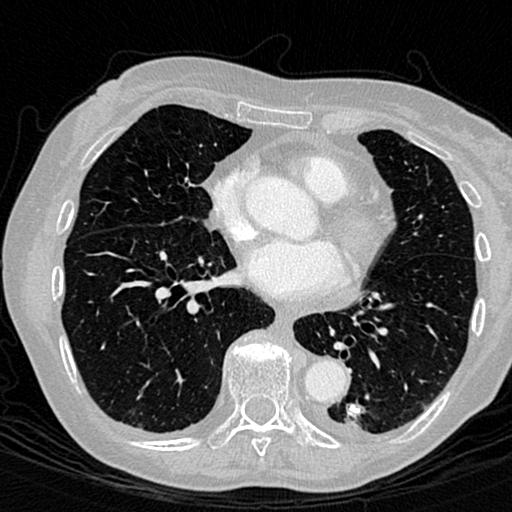nodule: (345, 402, 364, 421)
